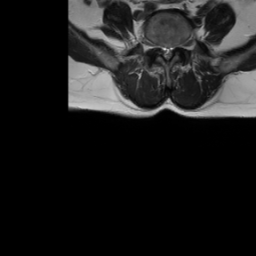CCS_stenosis: (163, 40, 170, 64)
LFS_severe_stenosis: (176, 36, 183, 55)
LLS_stenosis: (170, 39, 176, 58)
RFS_severe_stenosis: (153, 37, 160, 55)
RLS_stenosis: (158, 38, 163, 56)
